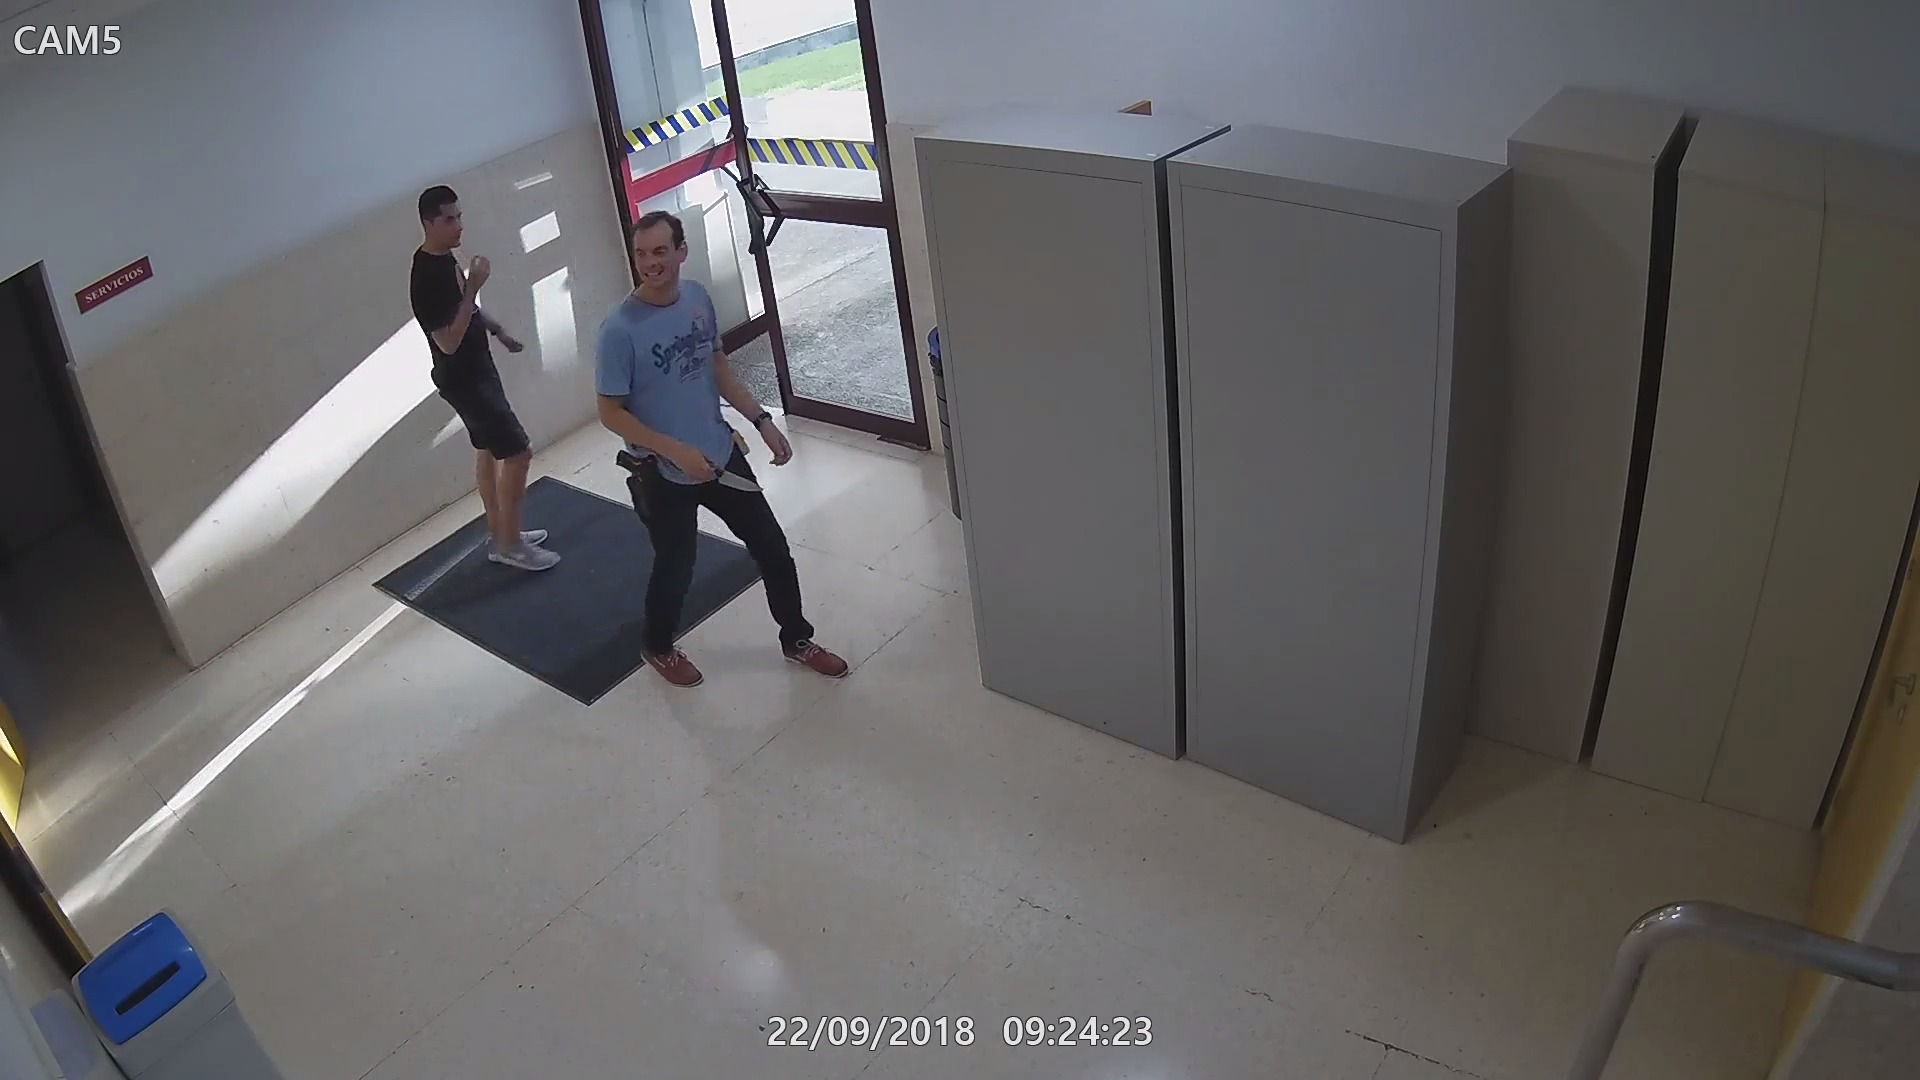Handgun: (613, 452, 666, 524)
Knife: (665, 434, 769, 498)
